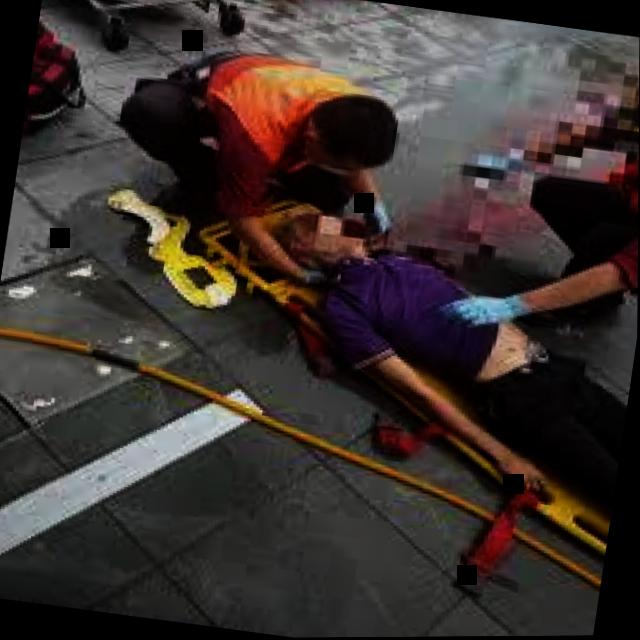Fall-Detected: (227, 181, 639, 547)
